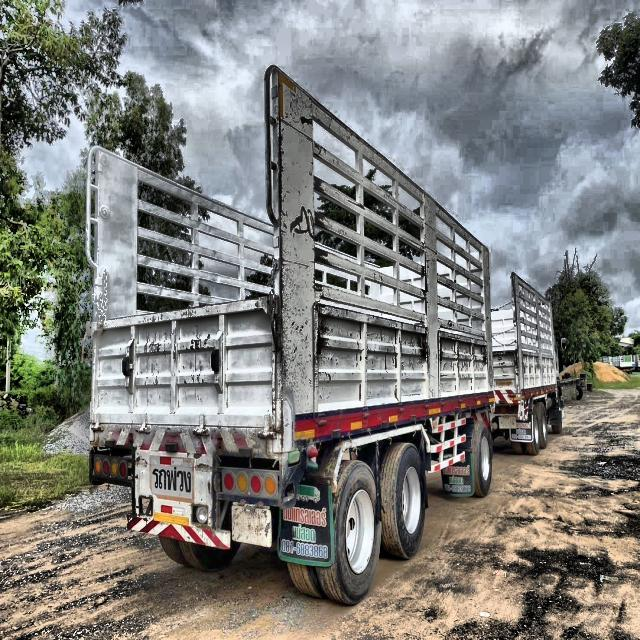trailer: (76, 59, 578, 618)
